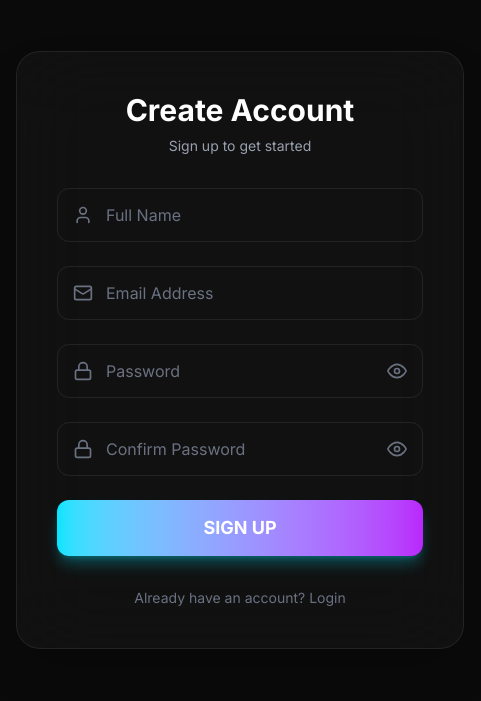
Test: RegisterForm › shows generic error on network failure
In the field with placeholder "Full Name": x=240, y=215 57,188 -> 423,242, type "John Doe"
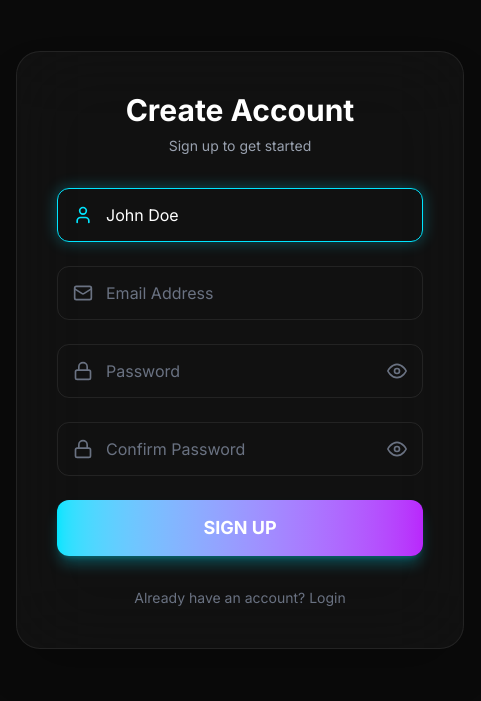
In the field with placeholder "Email Address": x=240, y=293 57,266 -> 423,320, type "john@example.com"
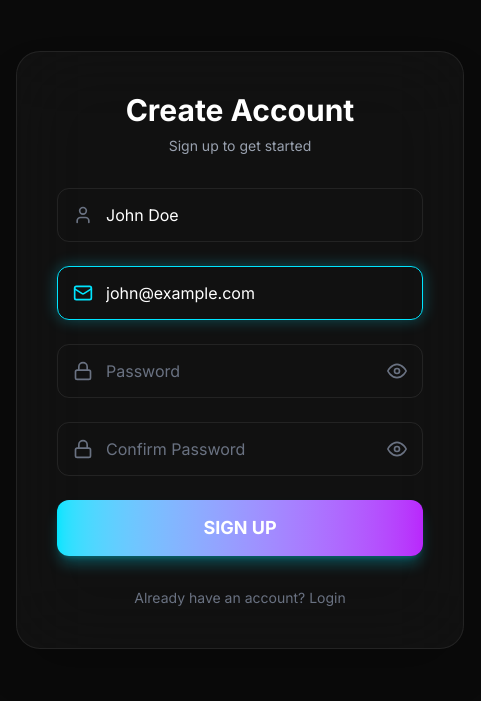
In the password field with placeholder "Password": x=240, y=371 57,344 -> 423,398, type "password123"
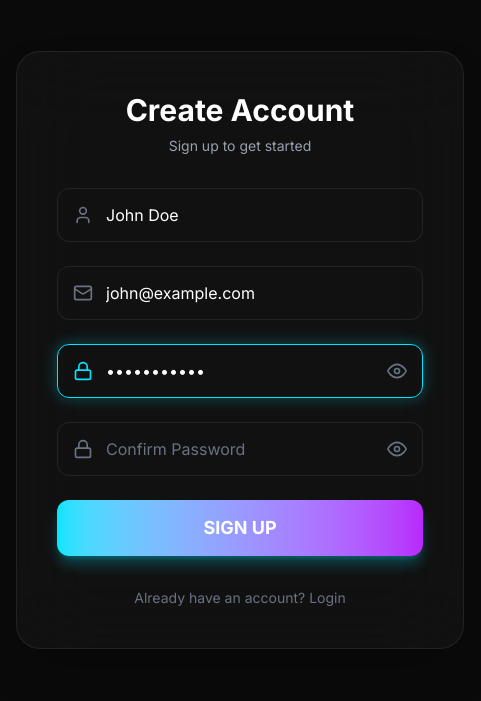
In the password field with placeholder "Confirm Password": x=240, y=449 57,422 -> 423,476, type "password123"
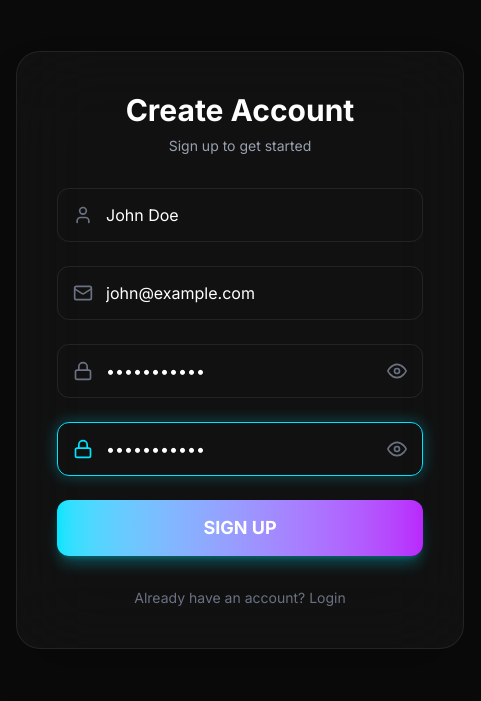
Click the button "SIGN UP": x=240, y=528 57,500 -> 423,556
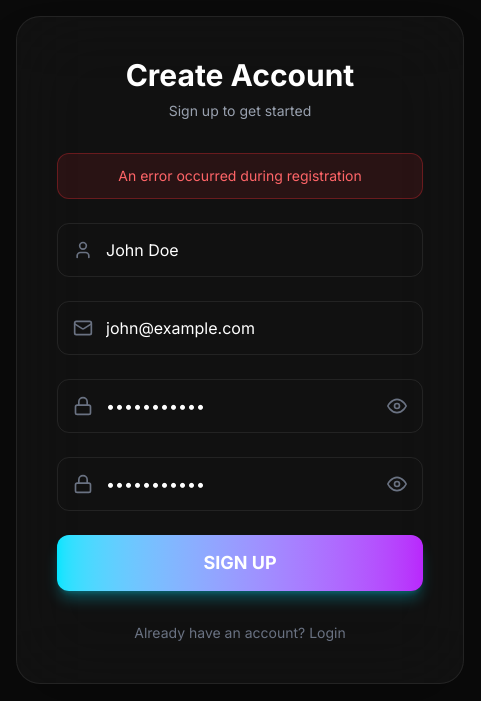
Result: the text "An error occurred during registration" is shown at 57,153 -> 423,199
